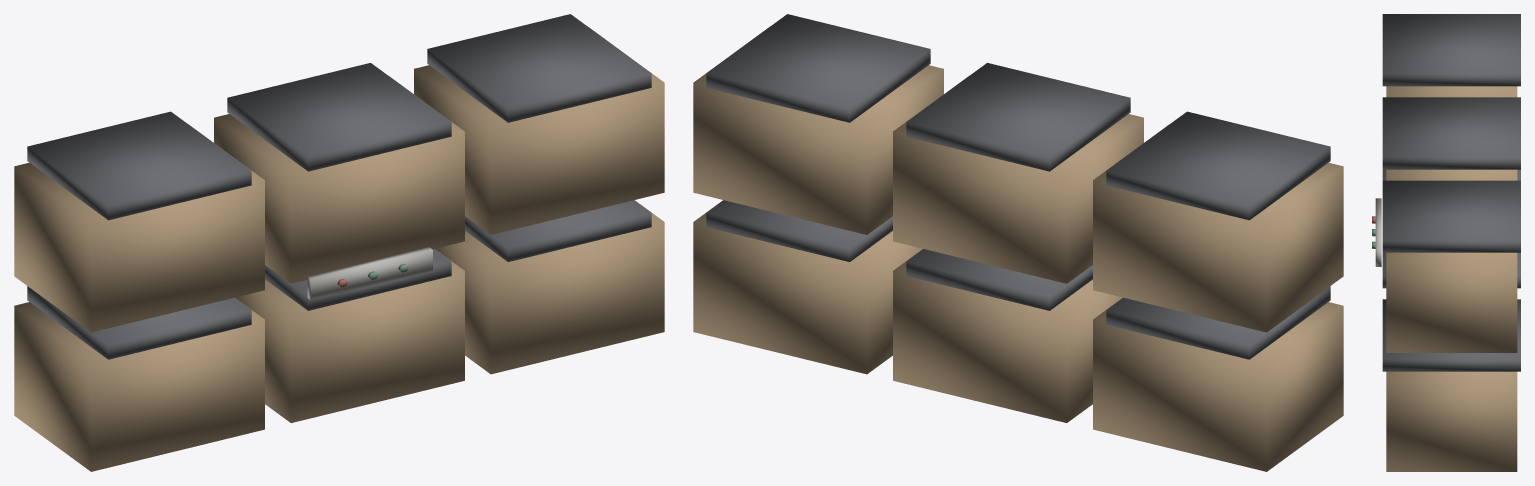
Rendered from produce_stand__wide.glb.
3 renders of one model, left to right at view 1: azimuth 30°, elevation 25°; view 2: azimuth 150°, elevation 25°; view 3: azimuth 270°, elevation 25°, orthographic. The views are drawn at different scales.
Parts seen in each view (by area): view 1: world; view 2: world; view 3: world.
Part boxes in pixels (<box>): world: <box>14,14,664,471</box>; world: <box>693,14,1343,471</box>; world: <box>1372,14,1520,471</box>.
Size of the model in its own units: 1.64 by 0.72 by 0.431.
